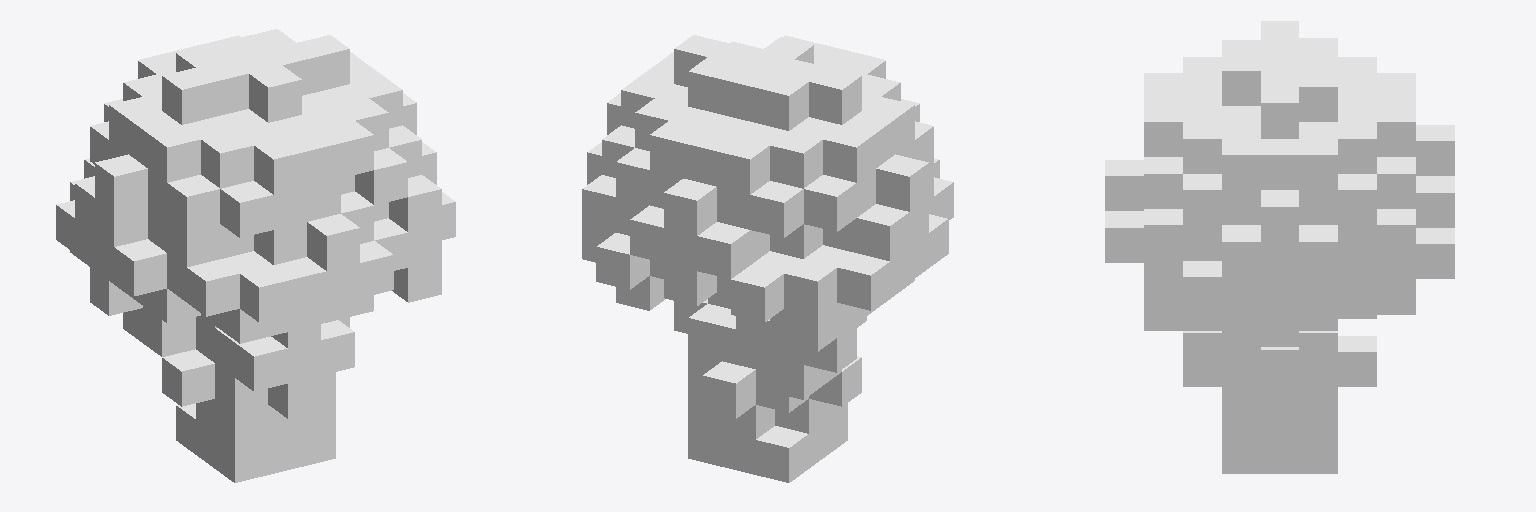
The model's file is wheat2.obj.
The picture shows the model from 3 angles: view 1: azimuth 30°, elevation 25°; view 2: azimuth 150°, elevation 25°; view 3: azimuth 270°, elevation 25°; orthographic projection.
Parts seen in each view (by area): view 1: object 1; view 2: object 1; view 3: object 1.
Part boxes in pixels (x1,y1,x2,y2): object 1: (56, 29, 455, 482); object 1: (582, 35, 953, 482); object 1: (1105, 21, 1454, 473).
Bounding box in the file's own units: 0.9 × 1.1 × 0.9.